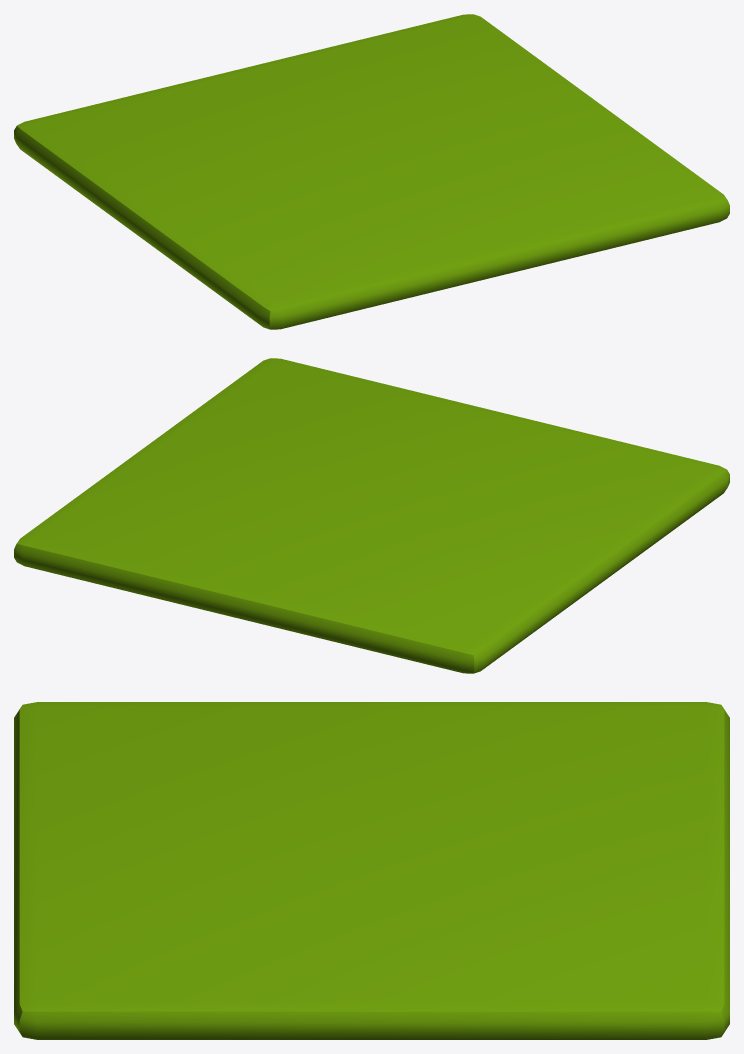
File: EXPRIMIDOR_PRP.fbx
3 views of the same model, one above another, from view 1: azimuth 30°, elevation 25°; view 2: azimuth 150°, elevation 25°; view 3: azimuth 270°, elevation 25° (orthographic). The views are drawn at different scales.
Visible parts, largest first — view 1: CUTTINGZONA_PRP_005; view 2: CUTTINGZONA_PRP_005; view 3: CUTTINGZONA_PRP_005.
Boxes of the visible parts, <box> form: CUTTINGZONA_PRP_005: <box>14,14,729,329</box>; CUTTINGZONA_PRP_005: <box>14,358,729,673</box>; CUTTINGZONA_PRP_005: <box>14,702,729,1039</box>.
Bounding box in the file's own units: 33.93 × 1.71 × 32.66.
